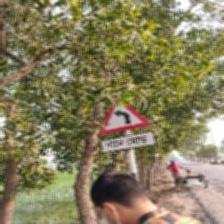Left-Turn: (98, 103, 156, 155)
